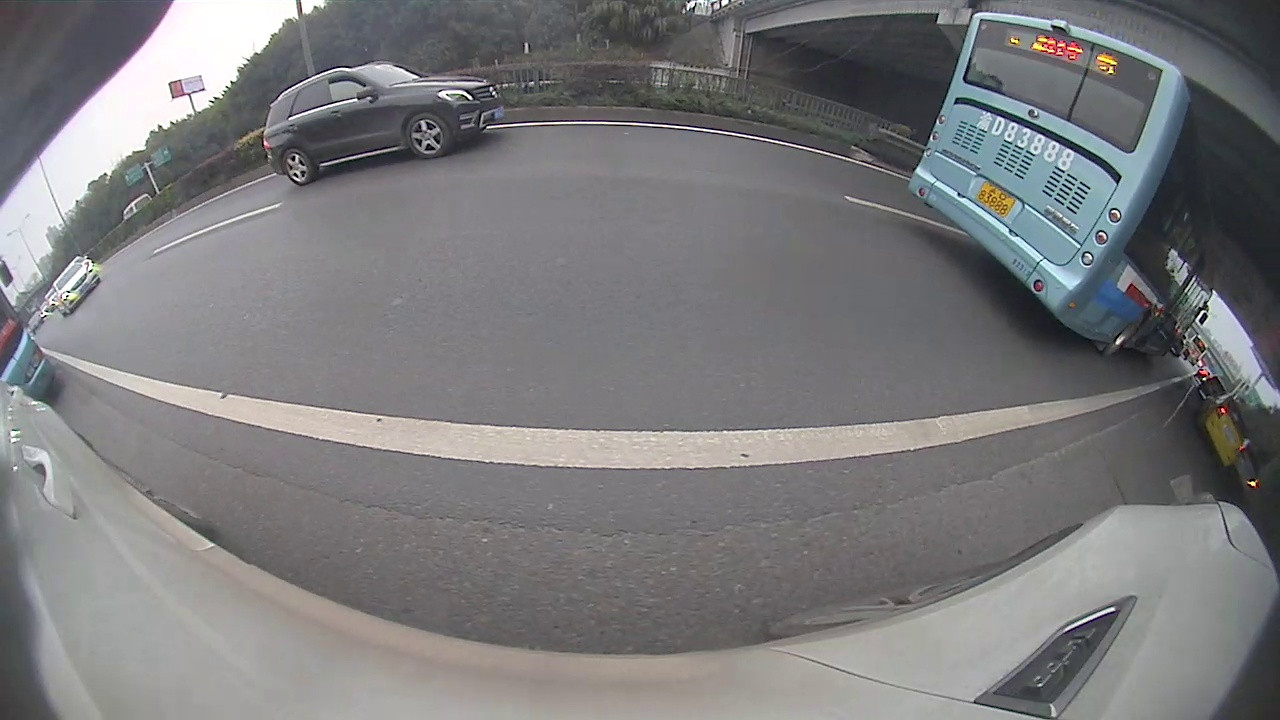bus: (905, 12, 1214, 359)
car: (262, 60, 507, 189), (1199, 393, 1248, 471), (54, 254, 100, 315)
front: (406, 112, 453, 159)
rear: (1101, 311, 1147, 359), (283, 147, 316, 188)
